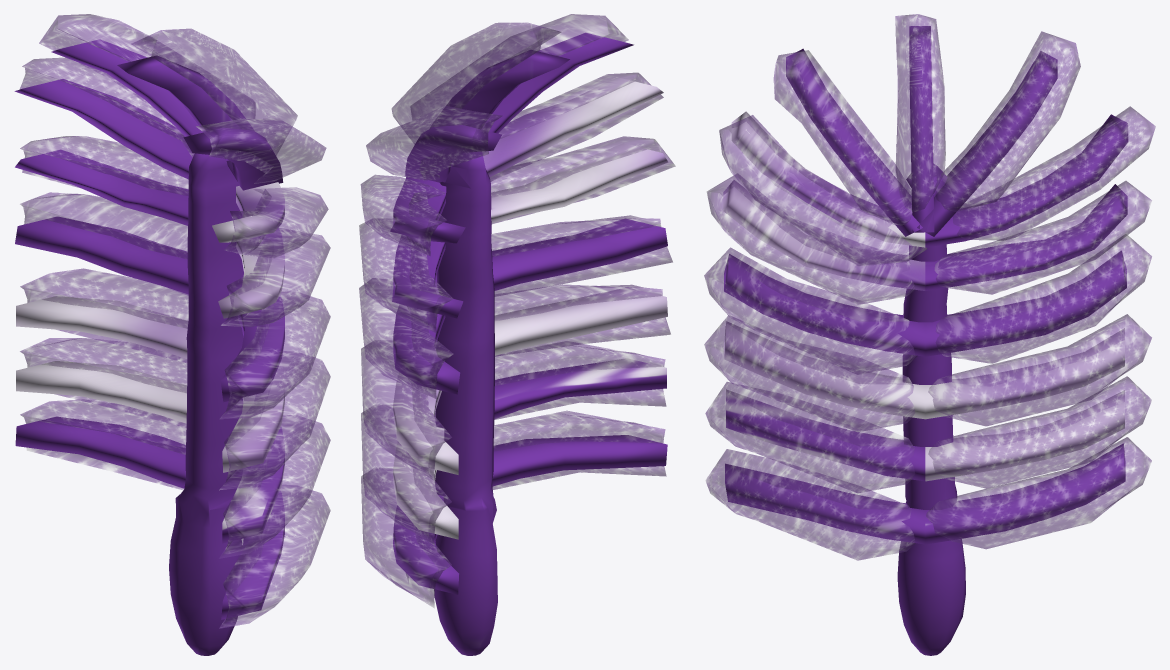
The model's file is sea_pen (1).fbx.
3 views of the same model, side by side, from view 1: azimuth 30°, elevation 25°; view 2: azimuth 150°, elevation 25°; view 3: azimuth 270°, elevation 25° (orthographic). The views are drawn at different scales.
Visible parts, largest first — view 1: sea_pen1; view 2: sea_pen1; view 3: sea_pen1.
Boxes of the visible parts, bbox=[...] form: sea_pen1: bbox=[14, 14, 330, 655]; sea_pen1: bbox=[359, 14, 675, 655]; sea_pen1: bbox=[704, 14, 1155, 655].
Bounding box in the file's own units: 0.2871 × 0.9454 × 0.6276.
Materials: 2 (2 with a texture image).
